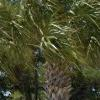Palm tree: (24, 4, 98, 99)
